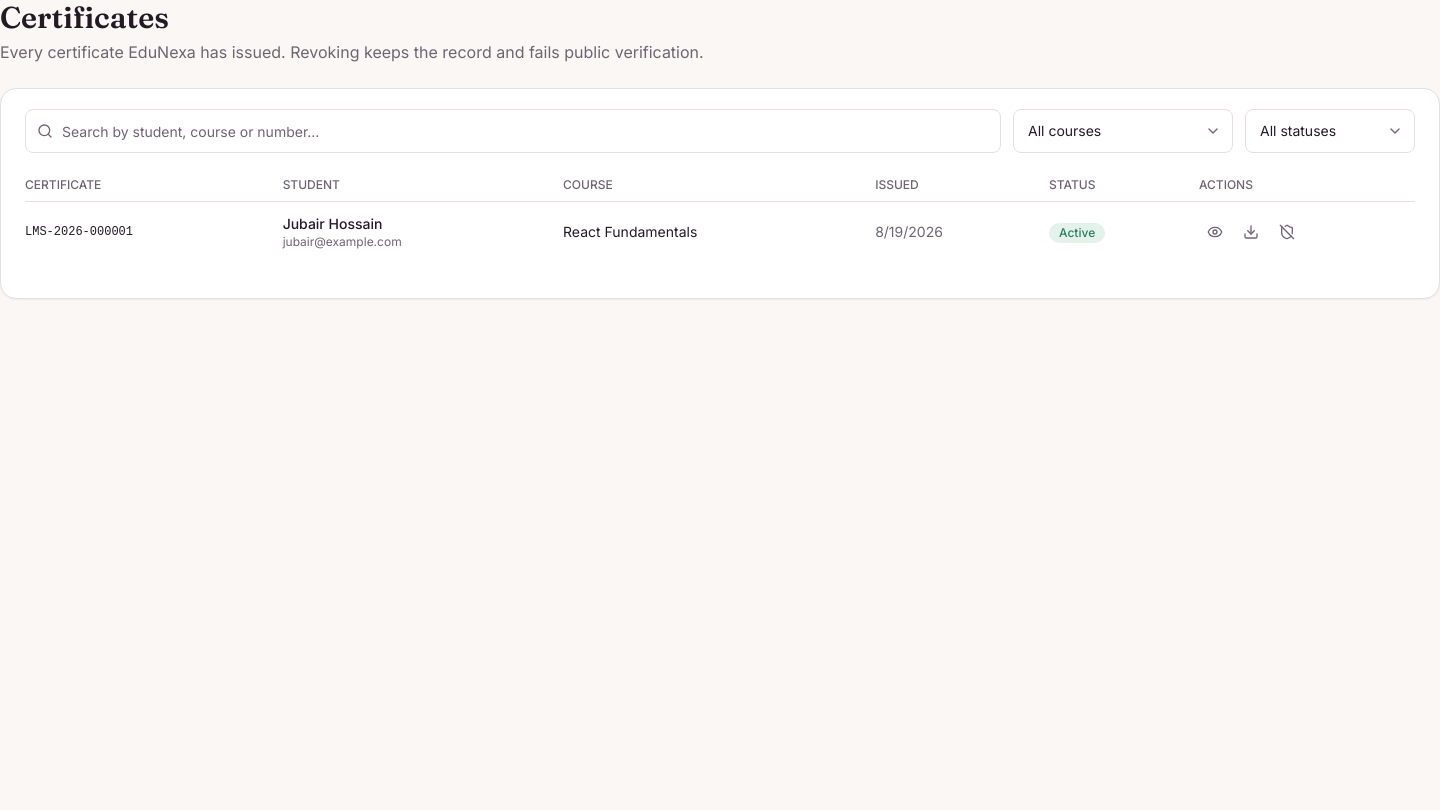
Test case: AdminCertificatesPage › revokes a certificate after confirmation
The image size is (1440, 810).
Click the button named "Revoke LMS-2026-000001". click: (1287, 232)
box: [1271,216,1303,248]
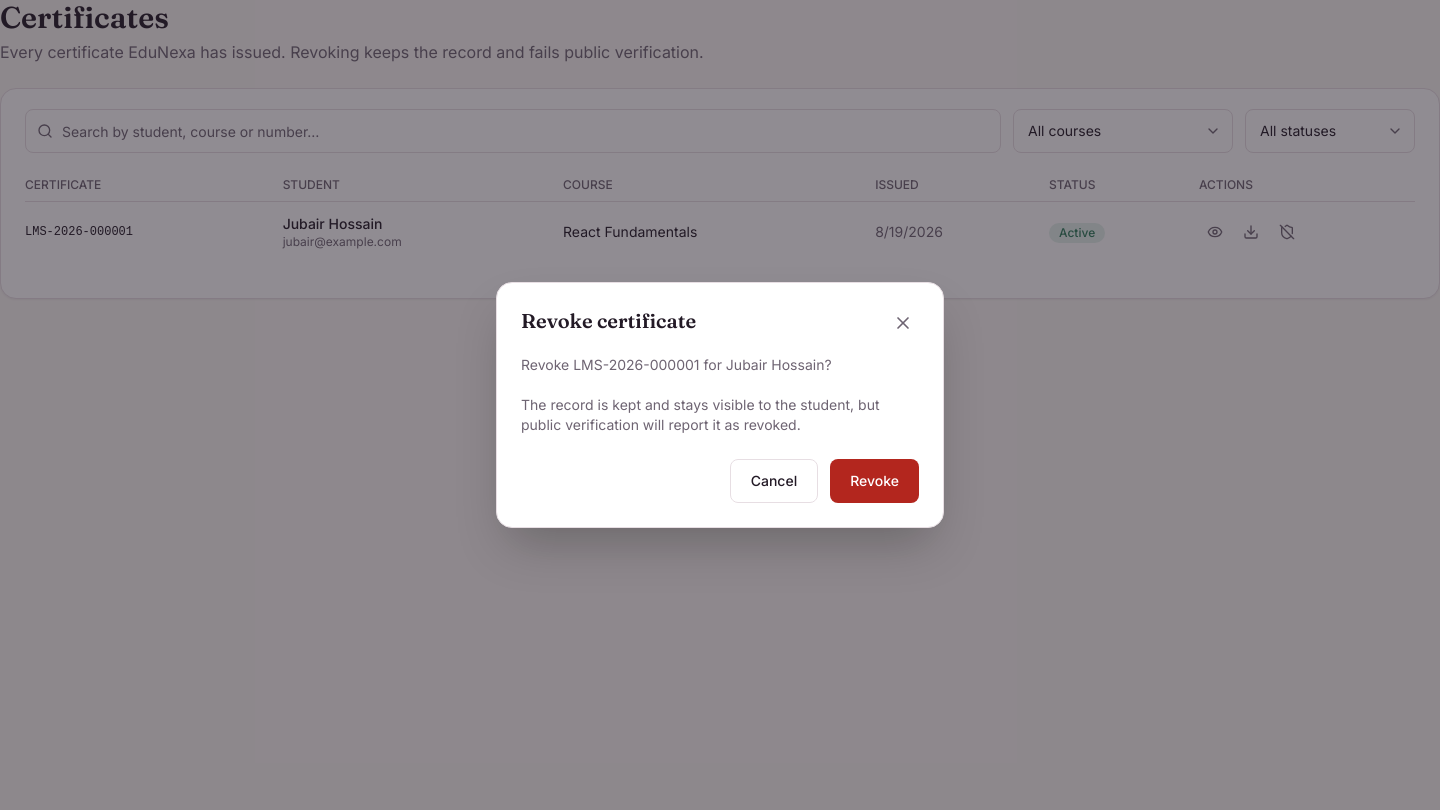
Expected: the text "stays visible to the student" is shown, [521,356,880,433]
Click the button "Revoke". click: (875, 481)
box: [830,459,919,503]
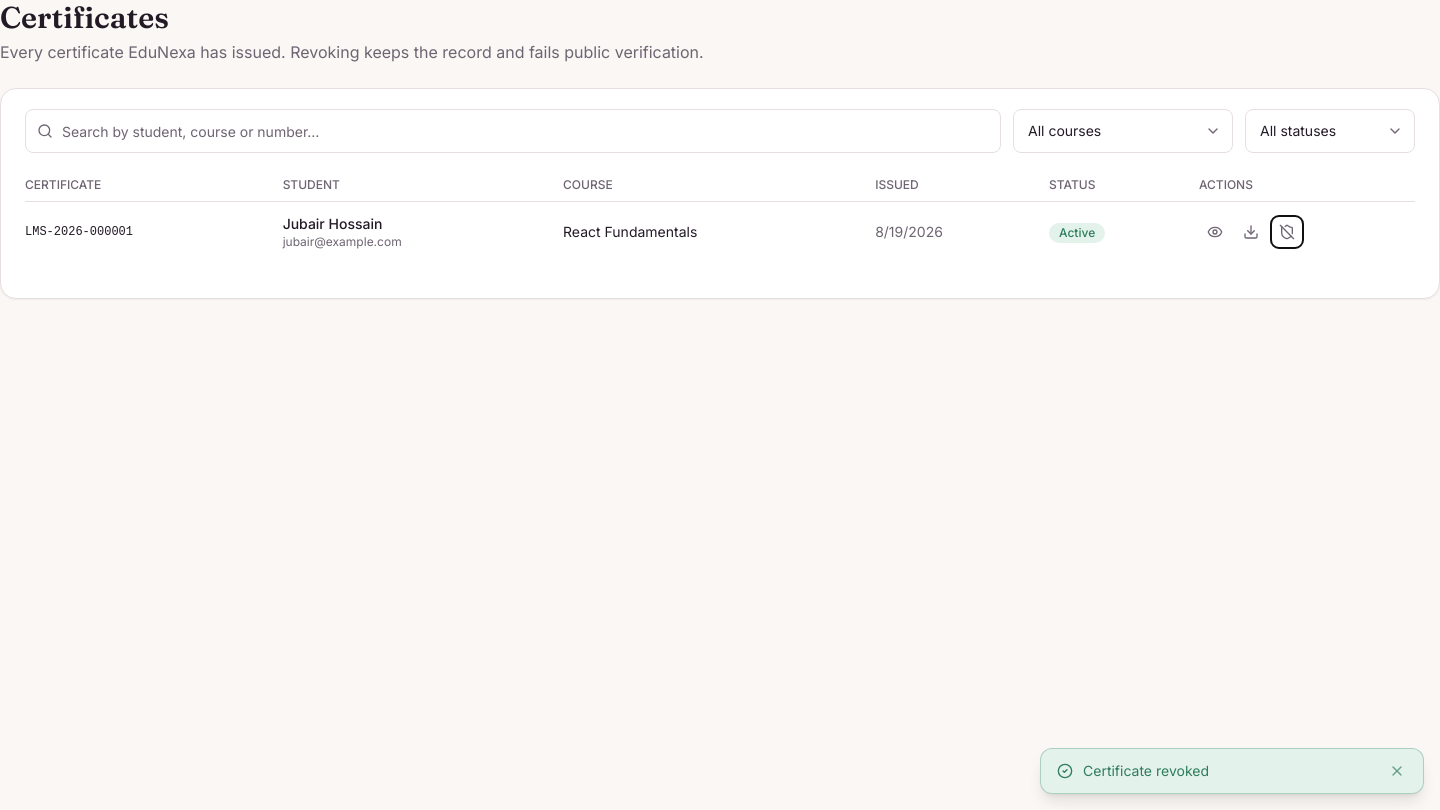
Expected: the text "Certificate revoked" is shown, [1083,762,1209,779]
